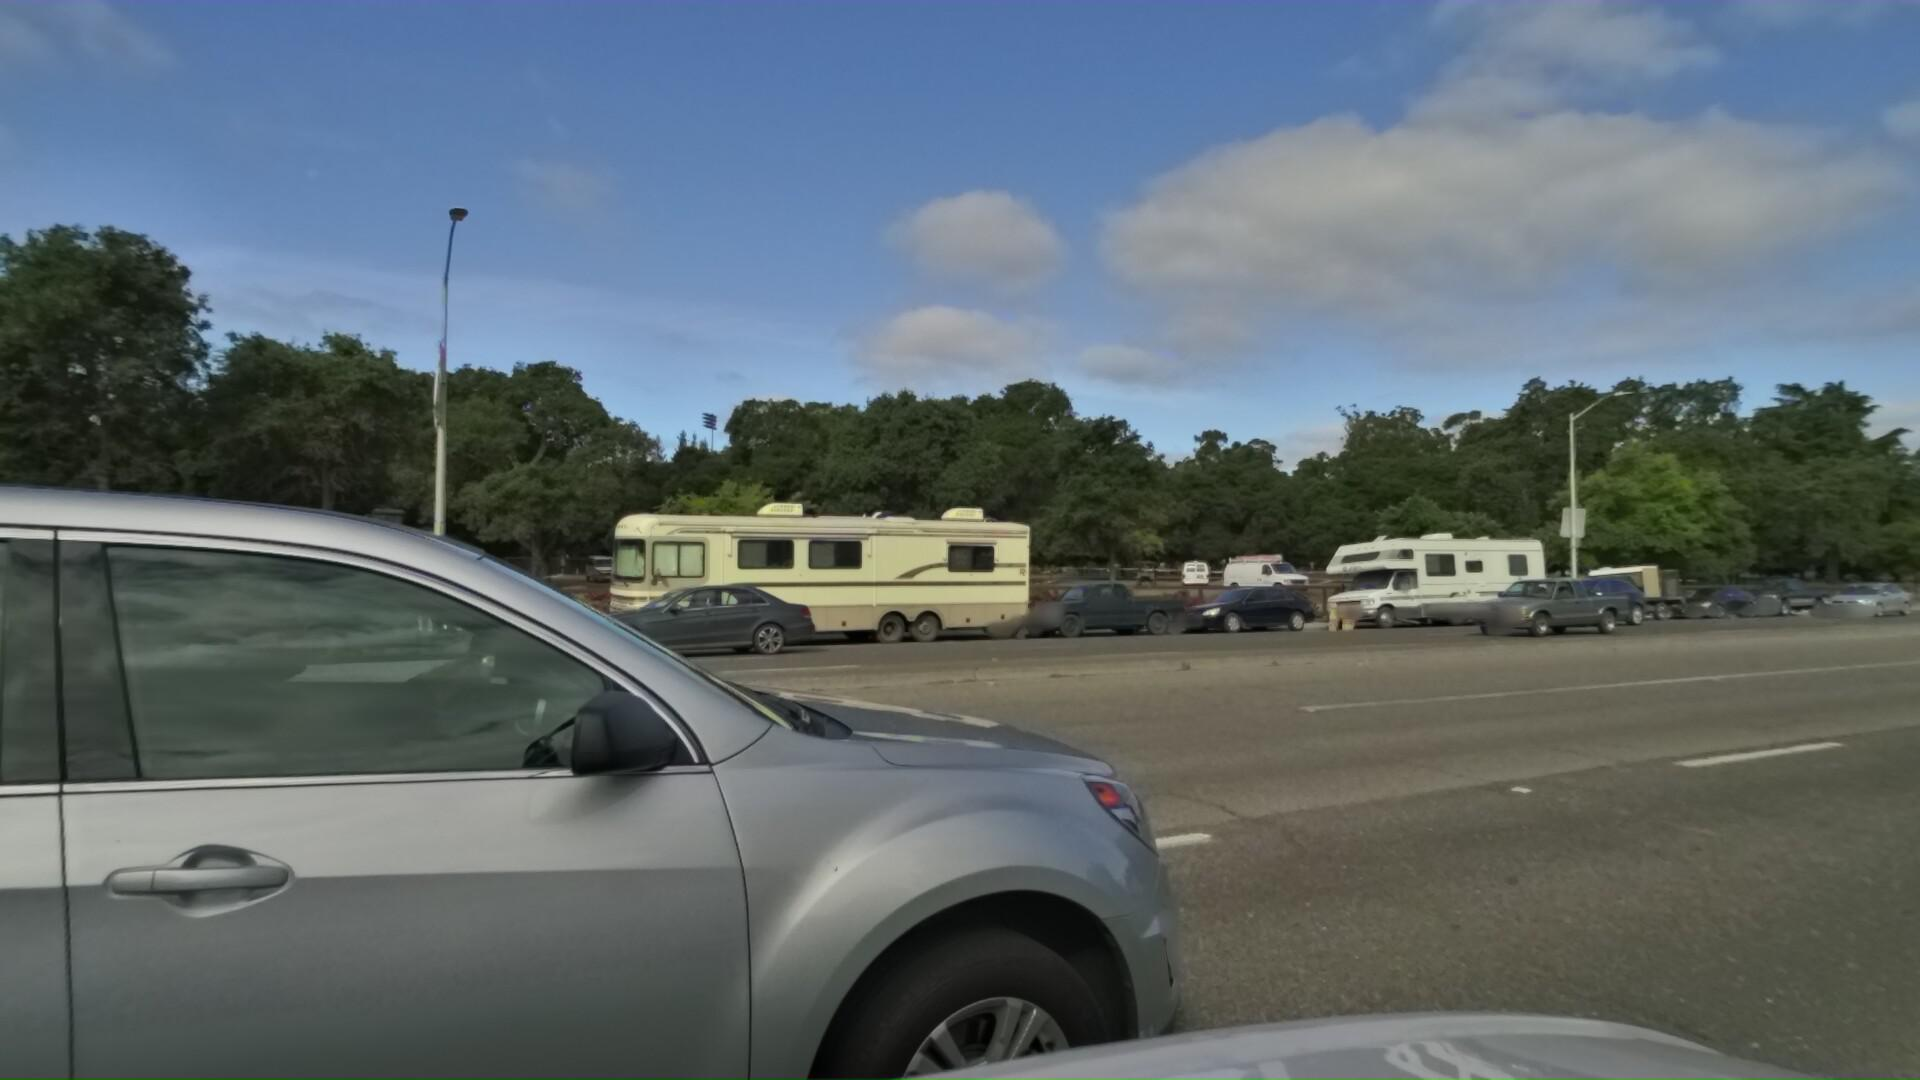car: (0, 26, 1305, 1080), (504, 570, 765, 670), (1418, 568, 1611, 637), (998, 579, 1182, 647), (1524, 560, 1683, 622), (1154, 580, 1312, 637), (1495, 574, 1642, 632), (1713, 572, 1822, 618), (1654, 582, 1754, 620), (1797, 580, 1904, 615)
other_vehicle: (578, 485, 1031, 651), (1288, 521, 1548, 632)
truck: (22, 491, 459, 676)
